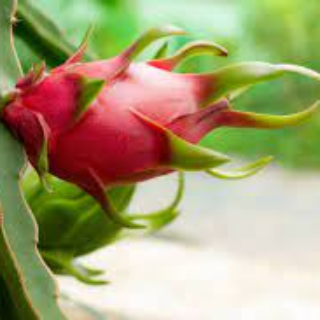thanh_long: (1, 41, 266, 199)
